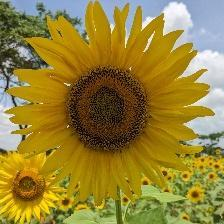sunflower: (7, 1, 217, 209)
